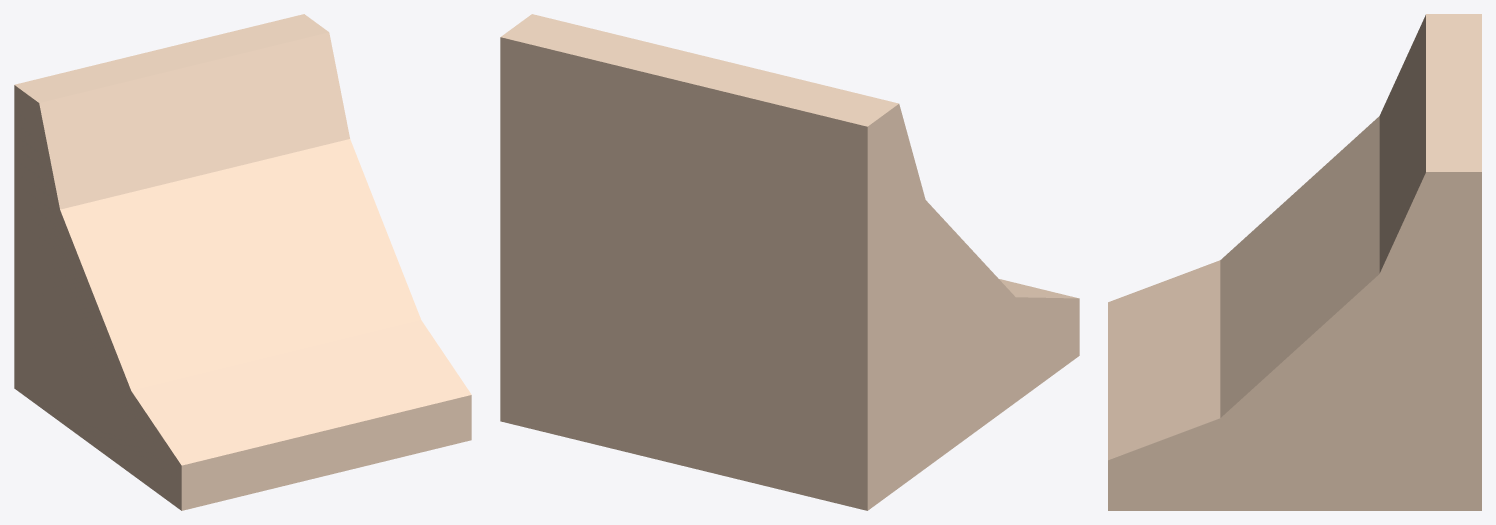
The model's file is Abstract_Modular_Support_Ramp_Curved_1.0_Beige_01.fbx.
The picture shows the model from 3 angles, left to right: view 1: azimuth 30°, elevation 25°; view 2: azimuth 150°, elevation 25°; view 3: azimuth 270°, elevation 25°; orthographic projection. The views are drawn at different scales.
Parts seen in each view (by area): view 1: Abstract_Modular_Support_Ramp_Curved_1.0_Beige_01; view 2: Abstract_Modular_Support_Ramp_Curved_1.0_Beige_01; view 3: Abstract_Modular_Support_Ramp_Curved_1.0_Beige_01.
Boxes of the visible parts, bbox=[...] form: Abstract_Modular_Support_Ramp_Curved_1.0_Beige_01: bbox=[14, 14, 471, 510]; Abstract_Modular_Support_Ramp_Curved_1.0_Beige_01: bbox=[500, 14, 1079, 510]; Abstract_Modular_Support_Ramp_Curved_1.0_Beige_01: bbox=[1108, 14, 1481, 510].
Size of the model in its own units: 3000 by 3000 by 3000.
